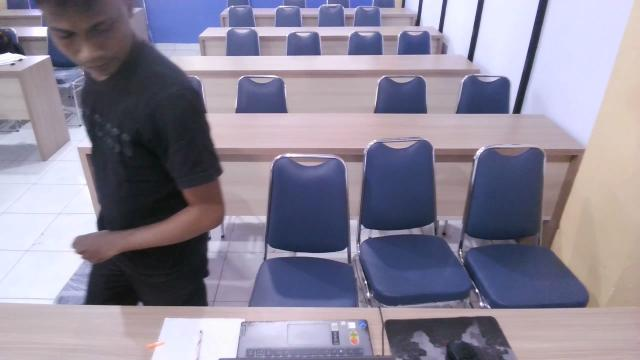Empty_Desk: (234, 150, 378, 357)
